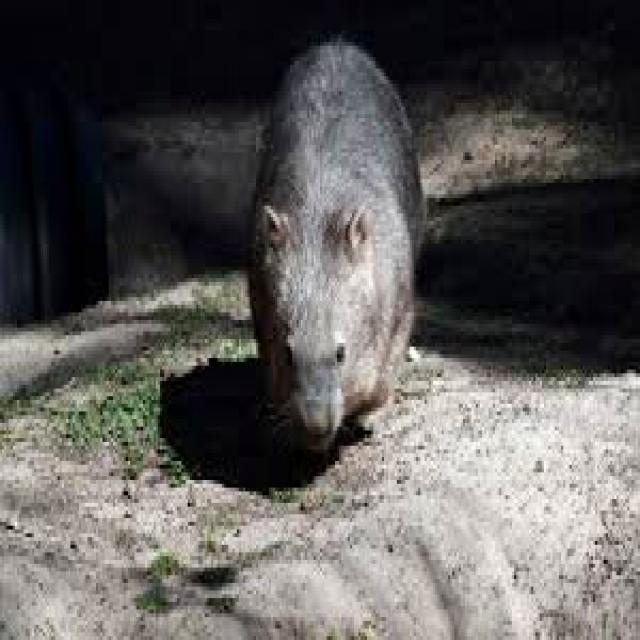wombats: (247, 38, 425, 450)
